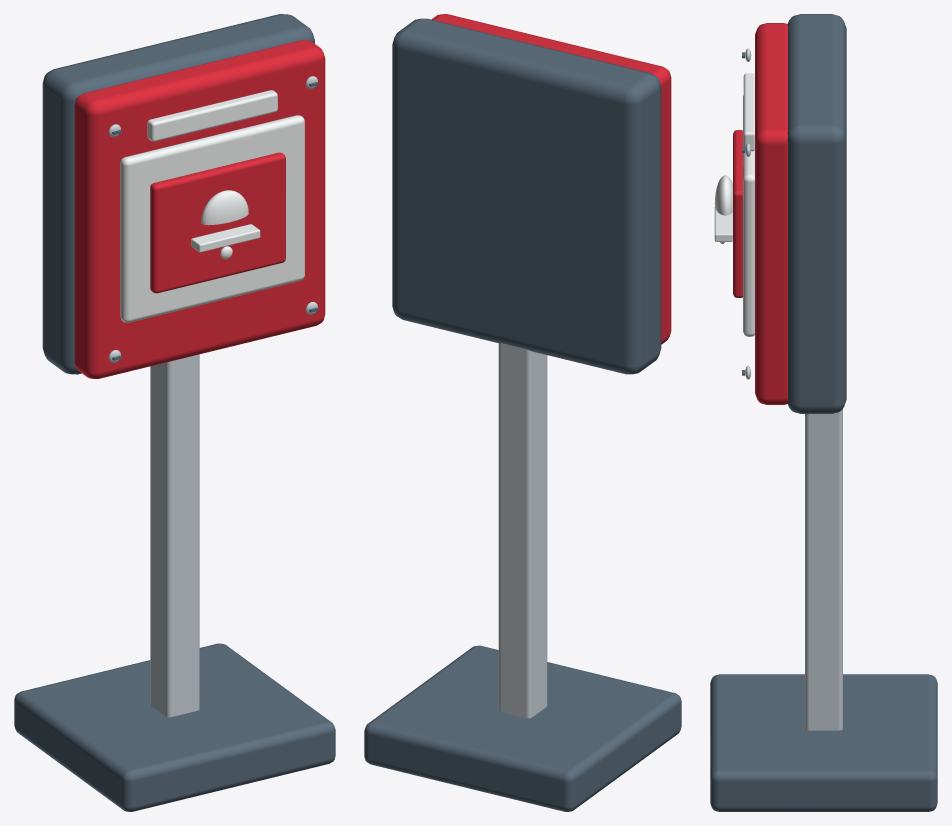
The model's file is fire-alarm-stand.glb.
3 views of the same model, side by side, from view 1: azimuth 30°, elevation 25°; view 2: azimuth 150°, elevation 25°; view 3: azimuth 270°, elevation 25° (orthographic).
Visible parts, largest first — view 1: fire-alarm-stand; view 2: fire-alarm-stand; view 3: fire-alarm-stand.
Boxes of the visible parts, <box> form: fire-alarm-stand: <box>14,14,335,811</box>; fire-alarm-stand: <box>364,14,681,811</box>; fire-alarm-stand: <box>710,14,937,811</box>.
Size of the model in its own units: 0.19 by 0.505 by 0.15.
